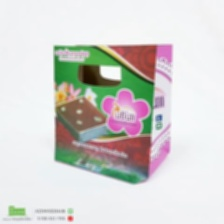snack: (47, 36, 180, 187)
